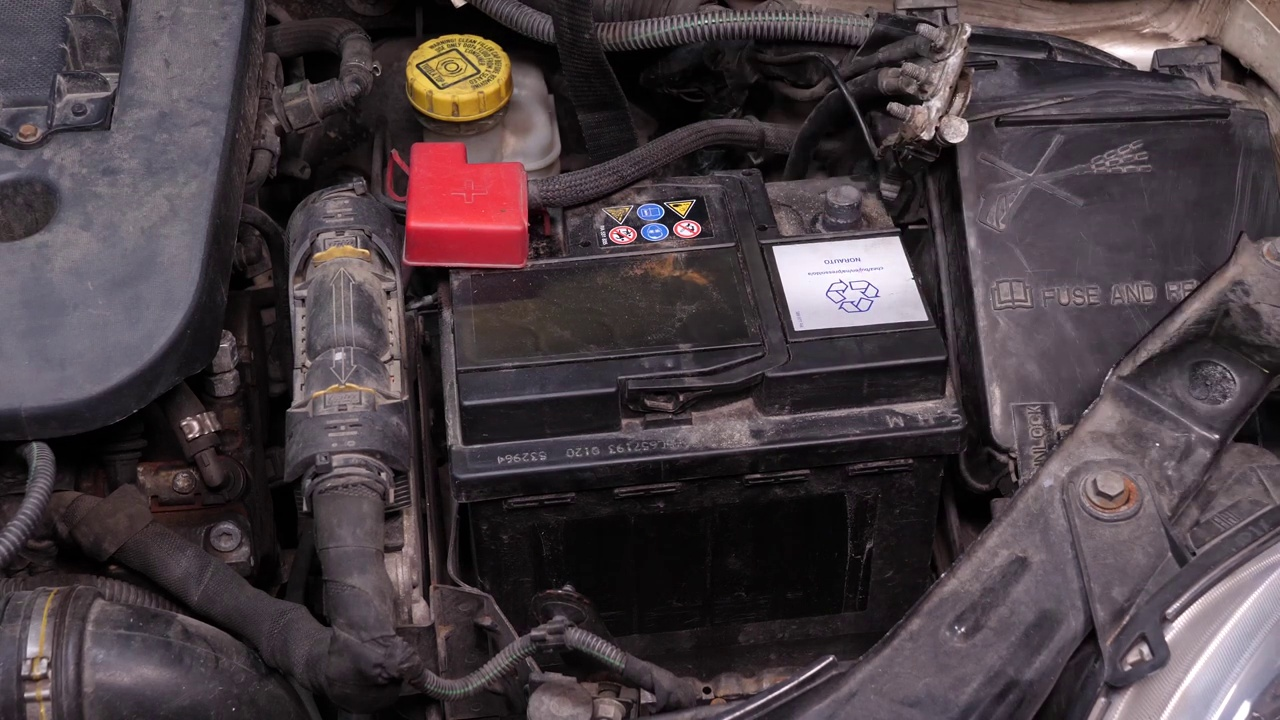battery: (406, 138, 963, 396)
neg_disconnected: (792, 168, 885, 230)
pos_connected: (382, 128, 562, 275)
